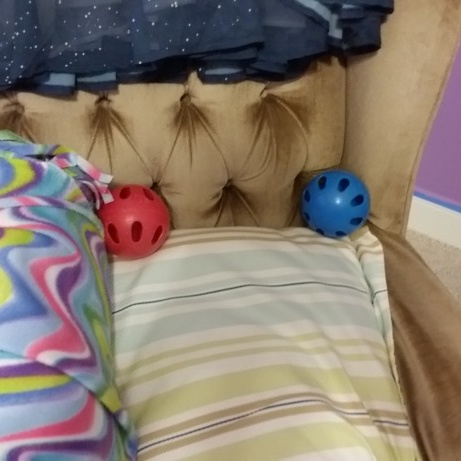ball: (92, 180, 176, 264), (296, 166, 374, 246)
